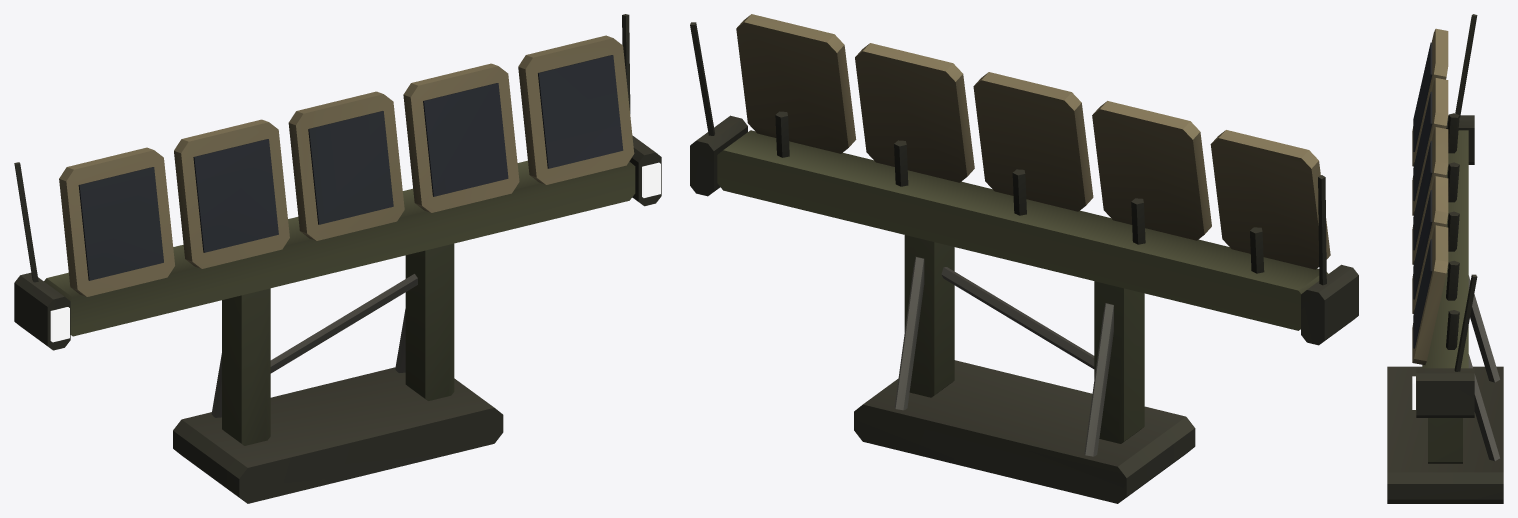
Rendered from sensor-array.glb.
The picture shows the model from 3 angles, left to right: view 1: azimuth 30°, elevation 25°; view 2: azimuth 150°, elevation 25°; view 3: azimuth 270°, elevation 25°; orthographic projection. The views are drawn at different scales.
Parts seen in each view (by area): view 1: Sweep_Mesh, Body, Sweep_Glow; view 2: Sweep_Mesh, Body; view 3: Sweep_Mesh, Body.
Part boxes in pixels (x1,y1,x2,y2): Sweep_Mesh: (14, 14, 661, 350); Body: (173, 243, 503, 503); Sweep_Glow: (50, 162, 660, 342); Sweep_Mesh: (690, 14, 1358, 345); Body: (854, 235, 1195, 503); Sweep_Mesh: (1412, 14, 1477, 417); Body: (1387, 275, 1503, 503).
Bounding box in the file's own units: 2.14 × 1.16 × 0.4.
